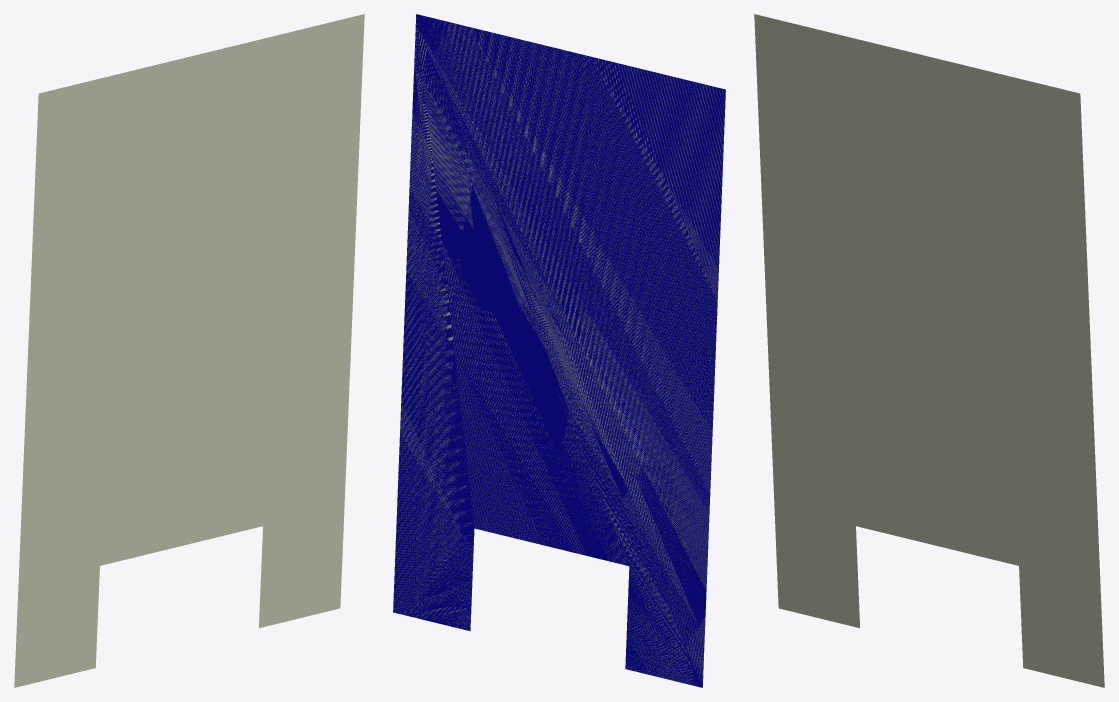
The model's file is original-5.obj.
3 views of the same model, side by side, from view 1: azimuth 30°, elevation 25°; view 2: azimuth 150°, elevation 25°; view 3: azimuth 330°, elevation 25° (orthographic). The views are drawn at different scales.
Visible parts, largest first — view 1: mesh1/mesh1-geometry/material_2#mesh1-geometry; view 2: mesh1/mesh1-geometry/material_2#mesh1-geometry; view 3: mesh1/mesh1-geometry/material_2#mesh1-geometry.
Part boxes in pixels (x1,y1,x2,y2): mesh1/mesh1-geometry/material_2#mesh1-geometry: [14, 14, 364, 687]; mesh1/mesh1-geometry/material_2#mesh1-geometry: [393, 14, 725, 687]; mesh1/mesh1-geometry/material_2#mesh1-geometry: [754, 14, 1104, 687].
Size of the model in its own units: 0.1341 by 0.2405 by 0.0173.
